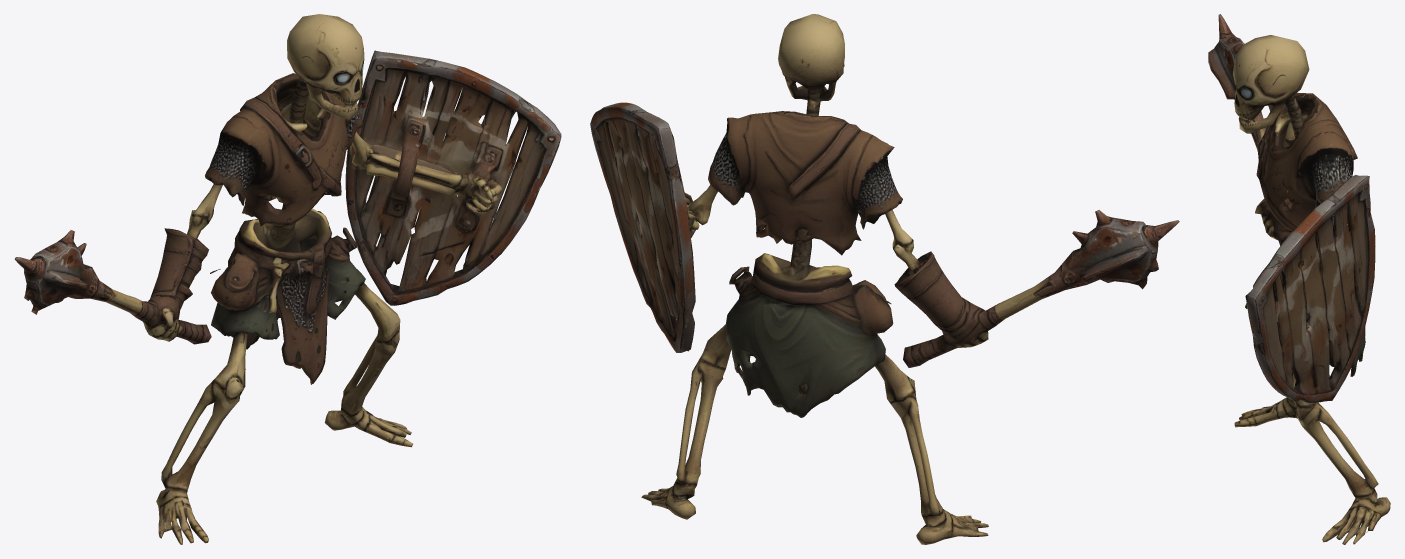
The model's file is Esqueleto.glb.
The picture shows the model from 3 angles, left to right: view 1: azimuth 30°, elevation 25°; view 2: azimuth 150°, elevation 25°; view 3: azimuth 270°, elevation 25°; orthographic projection. The views are drawn at different scales.
Visible parts, largest first — view 1: tripo_node_115109bd-5f06-4130-b07a-f59970f8f198; view 2: tripo_node_115109bd-5f06-4130-b07a-f59970f8f198; view 3: tripo_node_115109bd-5f06-4130-b07a-f59970f8f198.
Part boxes in pixels (box(x1,y1,x2,y2)): tripo_node_115109bd-5f06-4130-b07a-f59970f8f198: box(15, 14, 561, 544); tripo_node_115109bd-5f06-4130-b07a-f59970f8f198: box(590, 14, 1179, 544); tripo_node_115109bd-5f06-4130-b07a-f59970f8f198: box(1208, 14, 1390, 544).
Bounding box in the file's own units: 0.9912 × 0.802 × 0.2931.
Materials: 1 (1 with a texture image).
